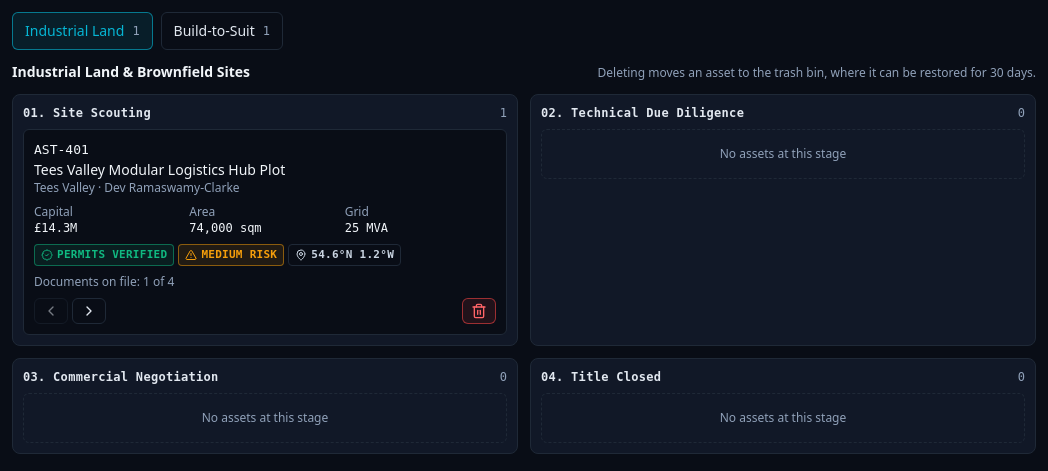
Test: KanbanBoard › switches pipeline with the tabs
The image size is (1048, 471).
Step 1. Click the tab "Build-to-Suit 1" → (222, 31), box [161,12,283,50]
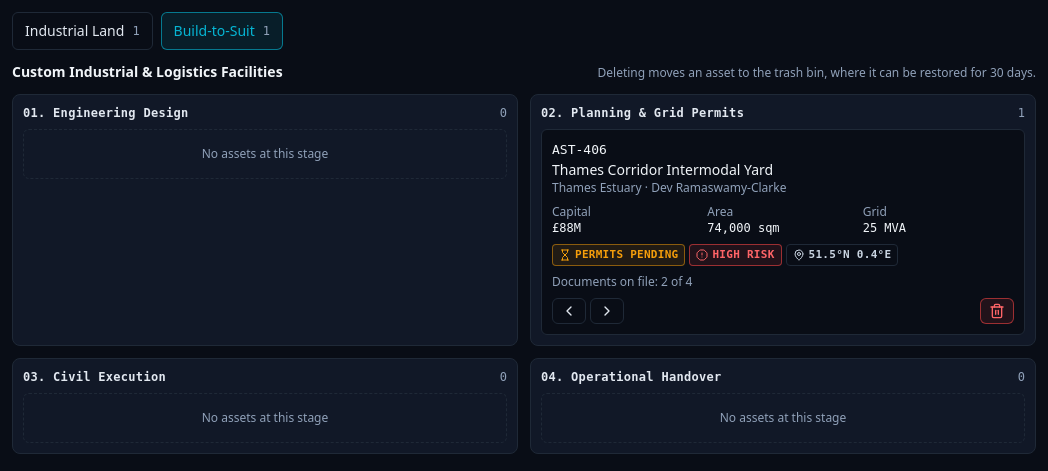
expect the text "AST-406" is shown: met, box [552,142,607,157]
expect the text "AST-401" is gone: met
